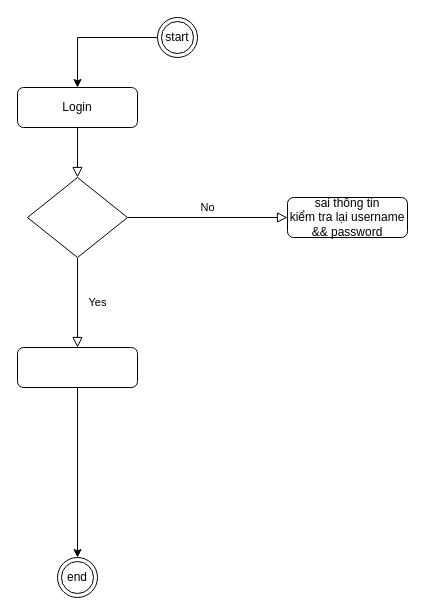
Some shapes in this 425 by 615 pixel diagram are drawn without their labels. Here are the shapes that lost their labels. From the top down, the centre of each, then its label:
(x=77, y=217): Nhập username: password
(x=77, y=367): Trang chủ Admin
